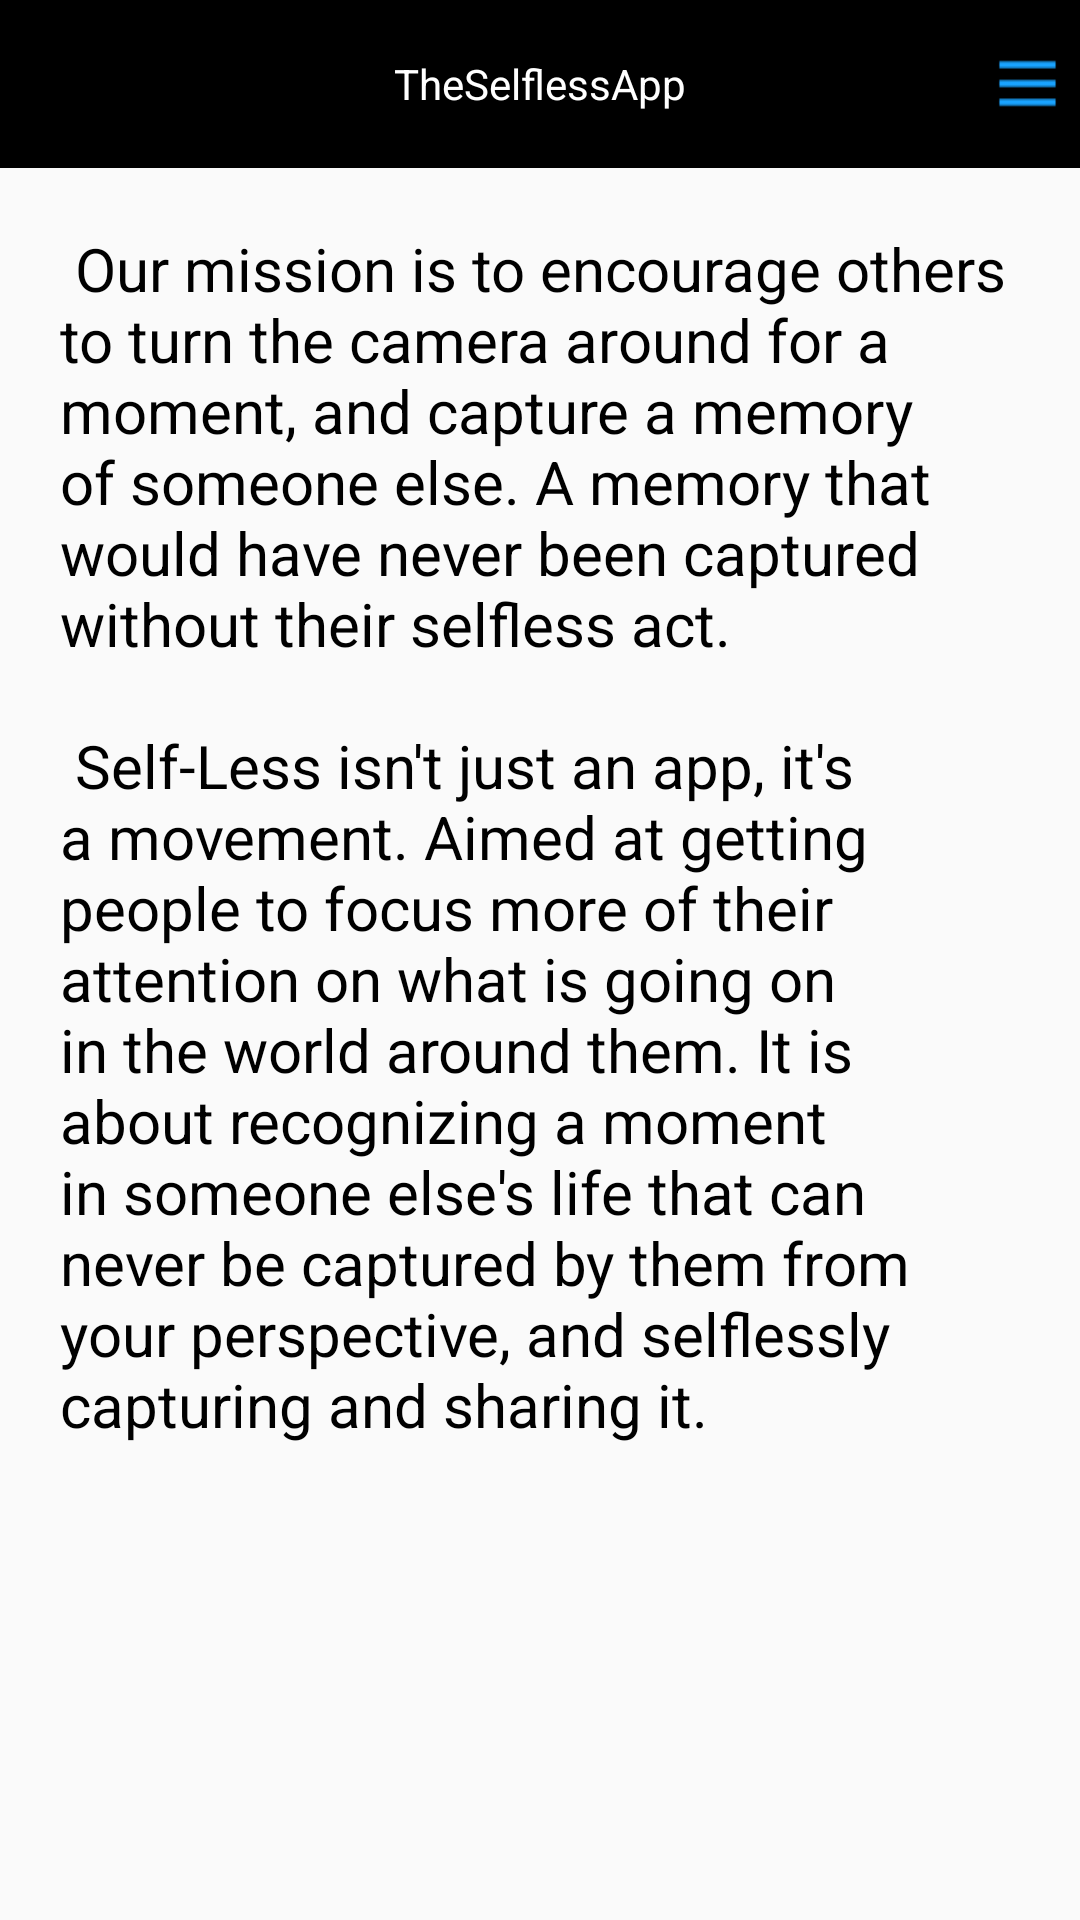

Icons on this 1080 × 1920 Android screen, each with its box as [x1,y1,x2,y2]:
menu: [999,60,1056,107]
